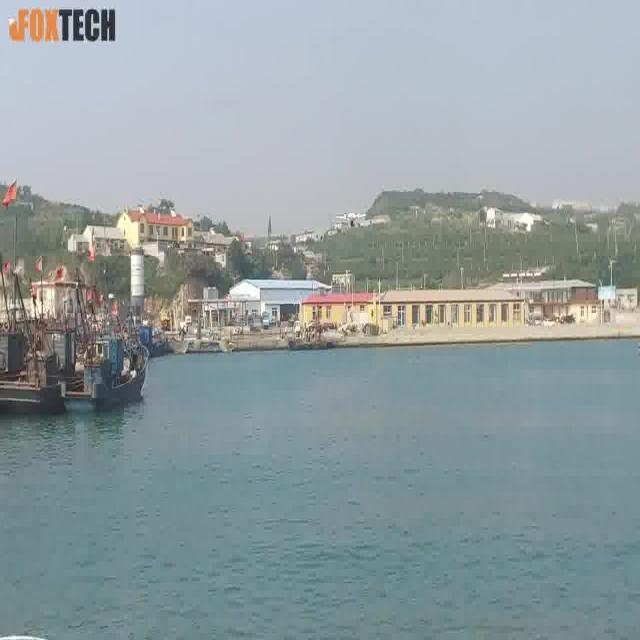drone: (336, 208, 368, 232)
